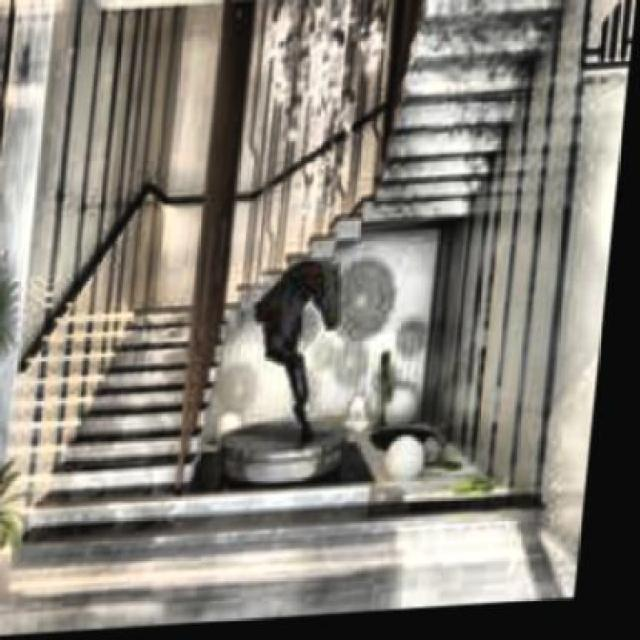stair: (37, 303, 228, 497)
